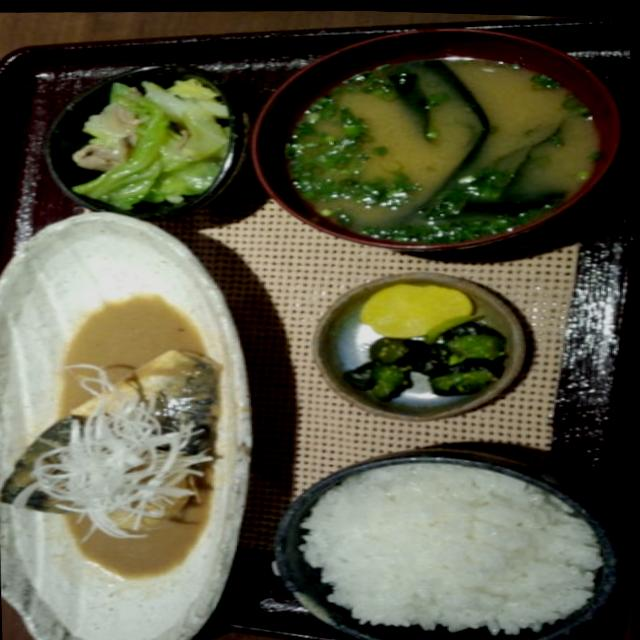米饭主食: (293, 445, 602, 640)
